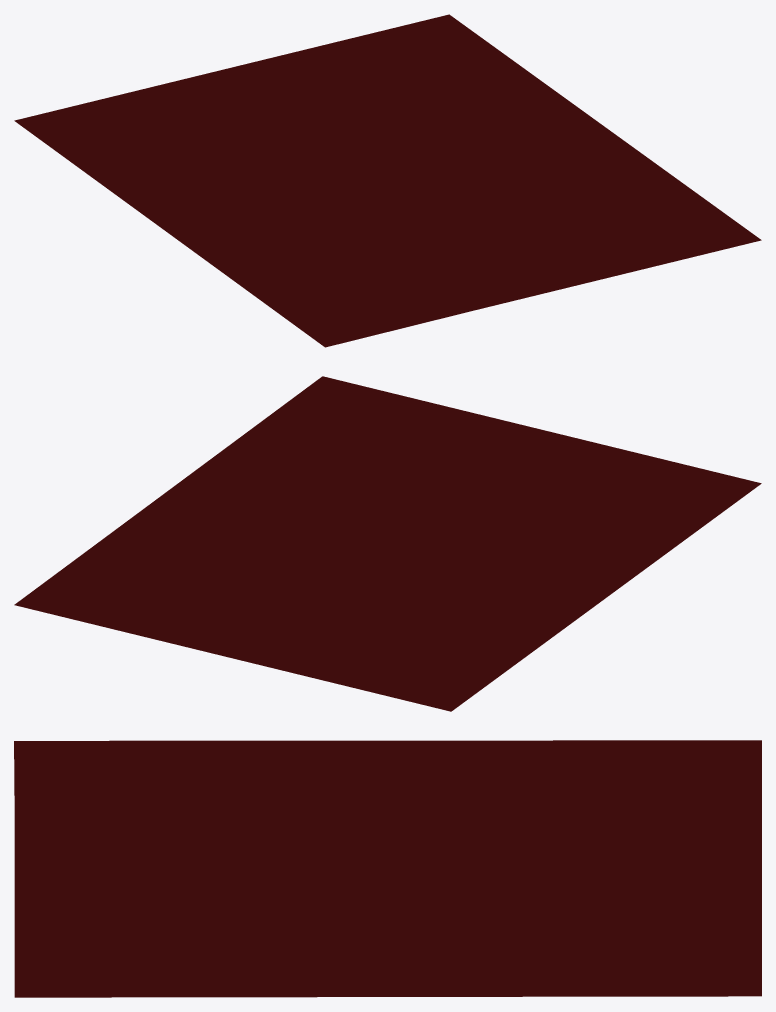
Rendered from wpn__dual_swords_01_01__trail_r.glb.
3 views of the same model, one above another, from view 1: azimuth 30°, elevation 25°; view 2: azimuth 150°, elevation 25°; view 3: azimuth 270°, elevation 25° (orthographic). The views are drawn at different scales.
Visible parts, largest first — view 1: wpn__dual_swords_01_01__trail_r; view 2: wpn__dual_swords_01_01__trail_r; view 3: wpn__dual_swords_01_01__trail_r.
Part boxes in pixels (left/top/right/bottom): wpn__dual_swords_01_01__trail_r: left=14, top=14, right=761, bottom=347; wpn__dual_swords_01_01__trail_r: left=14, top=376, right=761, bottom=711; wpn__dual_swords_01_01__trail_r: left=14, top=740, right=761, bottom=997.
Size of the model in its own units: 60.65 by 0.0422 by 74.4.
